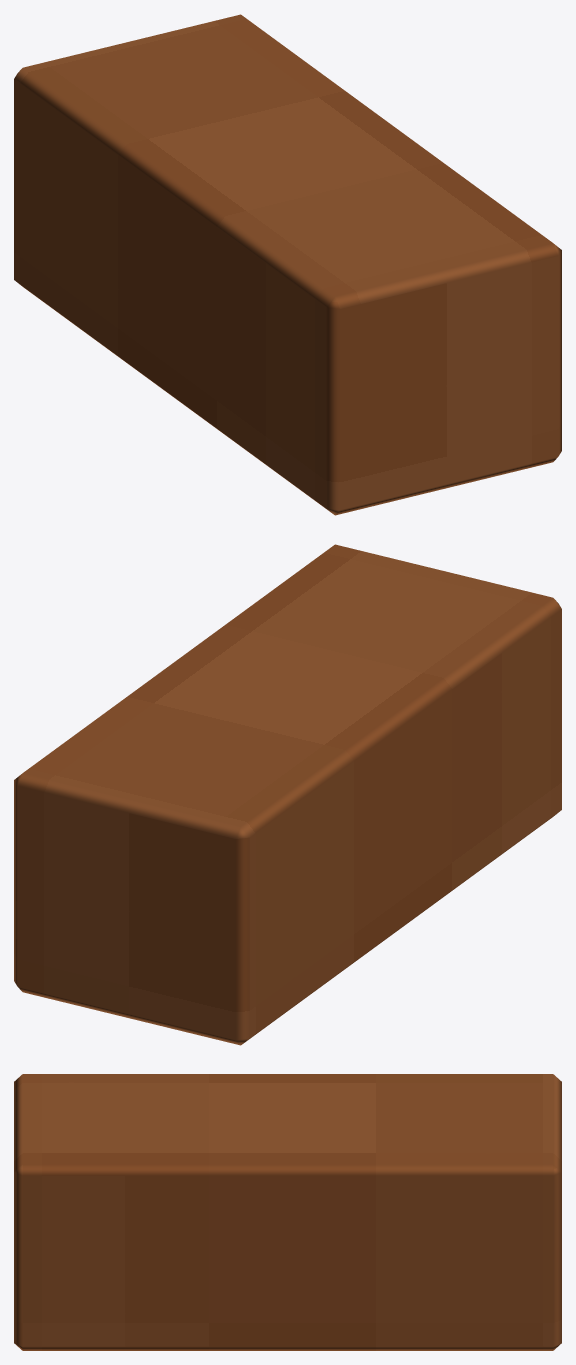
File: Peg-4.glb
The picture shows the model from 3 angles, top to bottom: view 1: azimuth 30°, elevation 25°; view 2: azimuth 150°, elevation 25°; view 3: azimuth 270°, elevation 25°; orthographic projection. The views are drawn at different scales.
Parts seen in each view (by area): view 1: Peg-4; view 2: Peg-4; view 3: Peg-4.
Part boxes in pixels (bbox=[...]): Peg-4: bbox=[14, 14, 561, 515]; Peg-4: bbox=[14, 544, 561, 1045]; Peg-4: bbox=[14, 1074, 561, 1350].
Size of the model in its own units: 0.054 by 0.048 by 0.128.
1 material, 1 textured.
